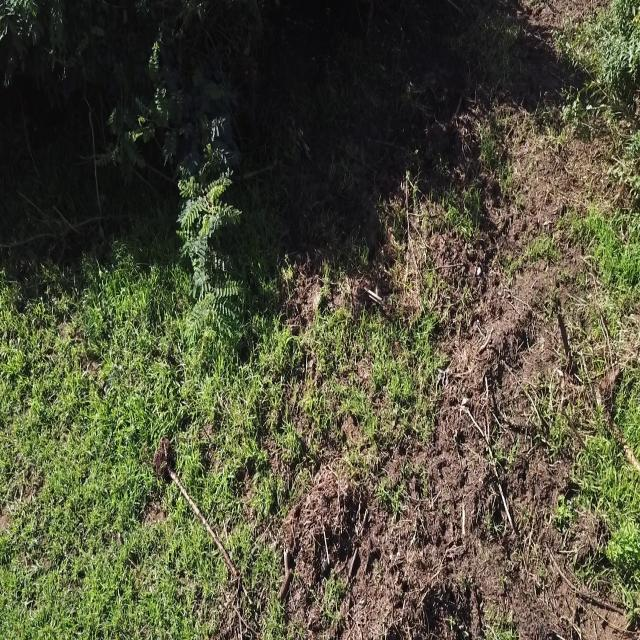Mysore-Thorn-Weed: (108, 44, 253, 330)
